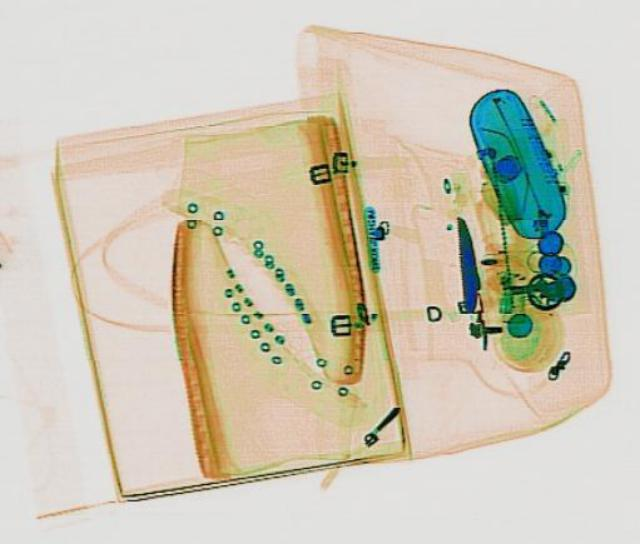Knife: (451, 214, 483, 310)
